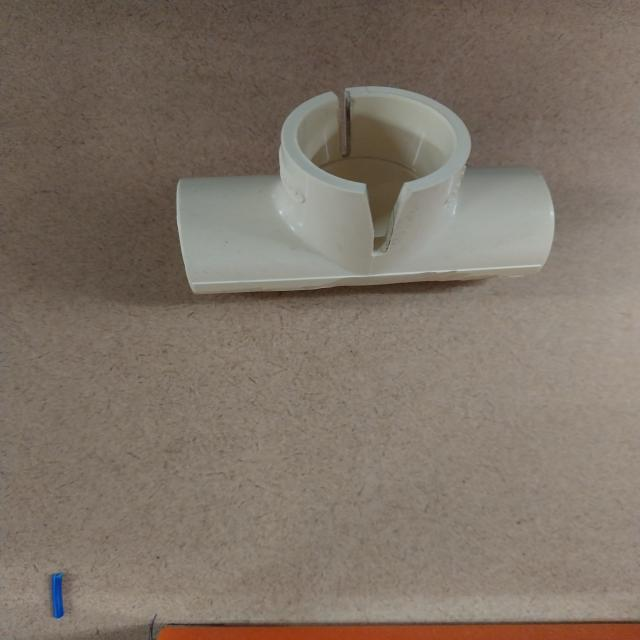Defective: (367, 176, 411, 256), (339, 87, 353, 158)
T Joint: (175, 86, 557, 297)
